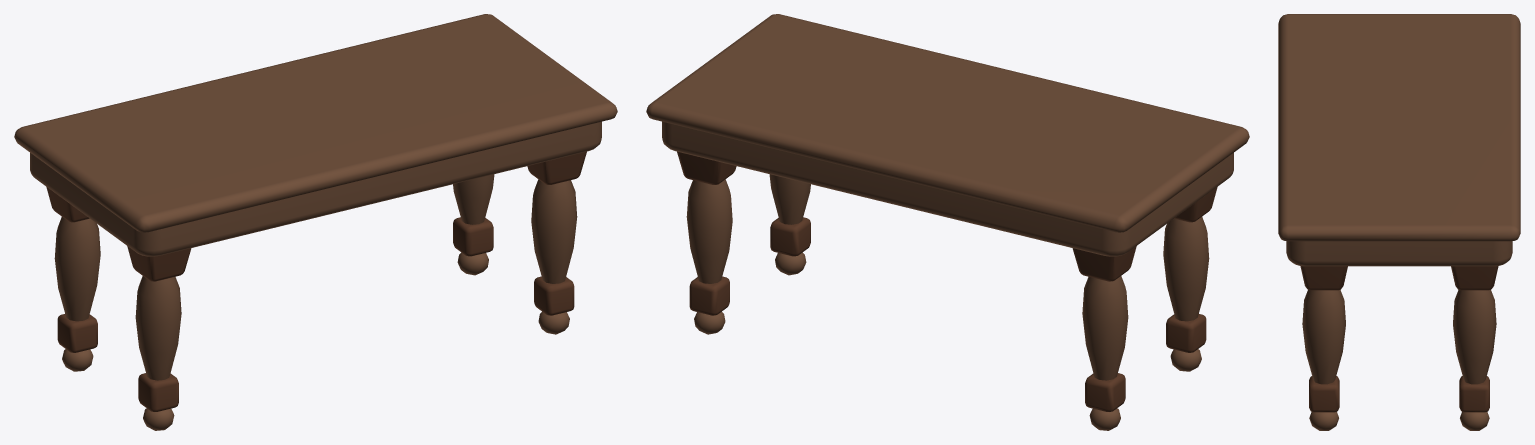
The model's file is mesa_cozinha_comprida_marrom_pacote.glb.
3 views of the same model, side by side, from view 1: azimuth 30°, elevation 25°; view 2: azimuth 150°, elevation 25°; view 3: azimuth 270°, elevation 25° (orthographic). The views are drawn at different scales.
Parts seen in each view (by area): view 1: mesa_cozinha_comprida_marrom_pacote; view 2: mesa_cozinha_comprida_marrom_pacote; view 3: mesa_cozinha_comprida_marrom_pacote.
Boxes of the visible parts, x1,y1,x2,y2 form: mesa_cozinha_comprida_marrom_pacote: (14,14,617,430); mesa_cozinha_comprida_marrom_pacote: (646,14,1249,430); mesa_cozinha_comprida_marrom_pacote: (1278,14,1520,430).
Size of the model in its own units: 1.6 by 0.7527 by 0.75.
1 material, 1 textured.
